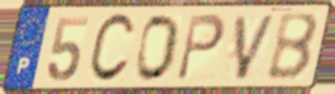5: (46, 14, 91, 83)
B: (265, 11, 320, 83)
C: (86, 11, 138, 86)
O: (134, 12, 183, 84)
P: (174, 12, 228, 83)
V: (233, 12, 279, 83)
